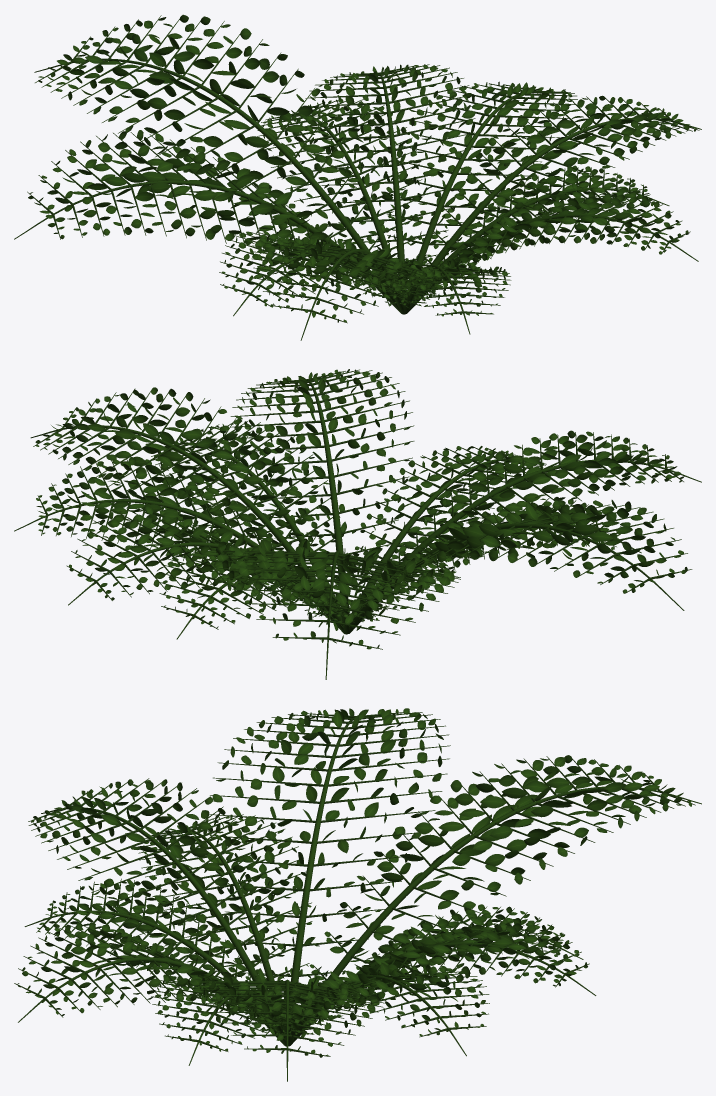
The model's file is fern_small_lod0.gltf.
The picture shows the model from 3 angles, top to bottom: view 1: azimuth 30°, elevation 25°; view 2: azimuth 150°, elevation 25°; view 3: azimuth 270°, elevation 25°; orthographic projection. The views are drawn at different scales.
Visible parts, largest first — view 1: fern_small_lod0; view 2: fern_small_lod0; view 3: fern_small_lod0.
Part boxes in pixels (<box>): fern_small_lod0: <box>14,14,701,340</box>; fern_small_lod0: <box>14,369,701,679</box>; fern_small_lod0: <box>14,708,701,1081</box>.
Bounding box in the file's own units: 1.69 × 0.4798 × 1.45.
1 material, 1 textured.
